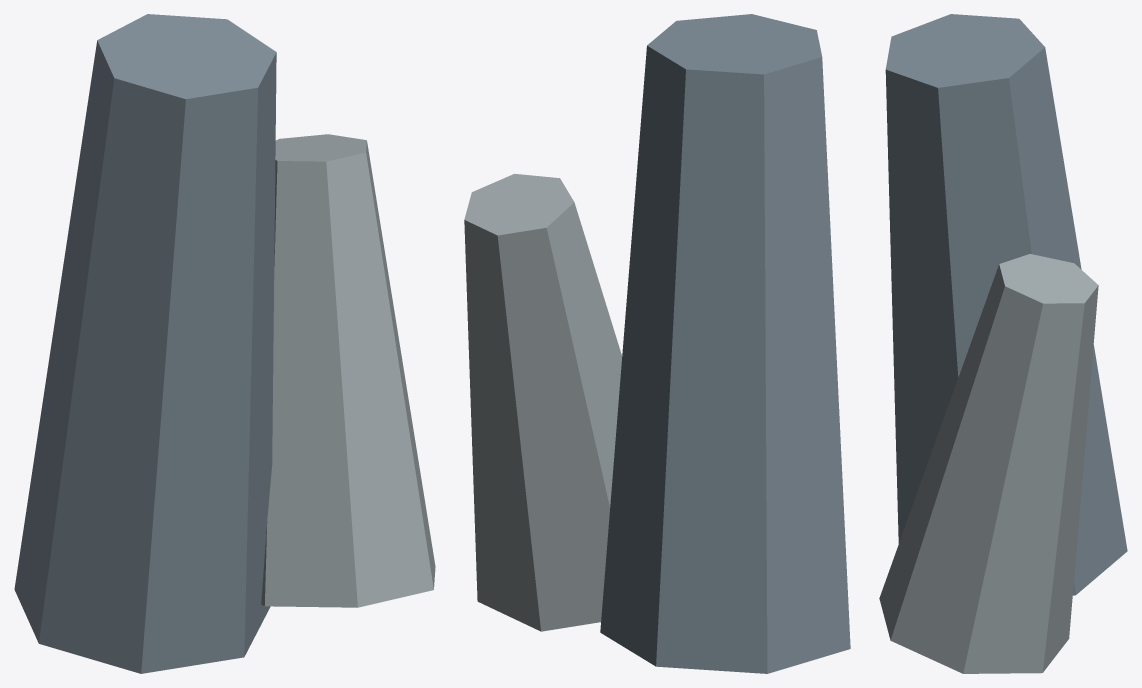
Rendered from Rock_03_LOD0.fbx.
The picture shows the model from 3 angles, left to right: view 1: azimuth 30°, elevation 25°; view 2: azimuth 150°, elevation 25°; view 3: azimuth 270°, elevation 25°; orthographic projection. The views are drawn at different scales.
Visible parts, largest first — view 1: Rock_03_LOD0; view 2: Rock_03_LOD0; view 3: Rock_03_LOD0.
Part boxes in pixels (x1,y1,x2,y2): Rock_03_LOD0: (14,14,435,673); Rock_03_LOD0: (464,14,850,673); Rock_03_LOD0: (879,14,1127,673).
Size of the model in its own units: 167 by 248 by 105.
